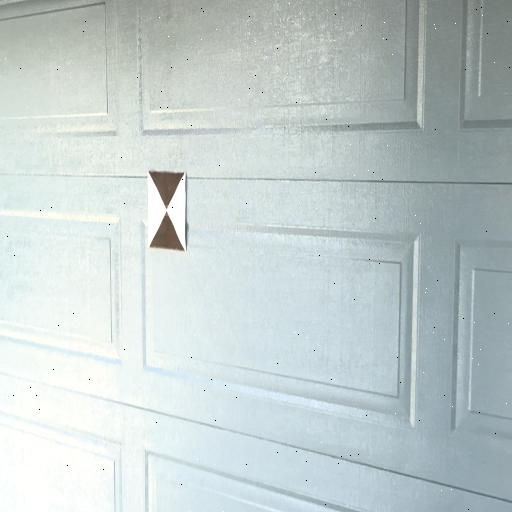target: (147, 172, 187, 250)
